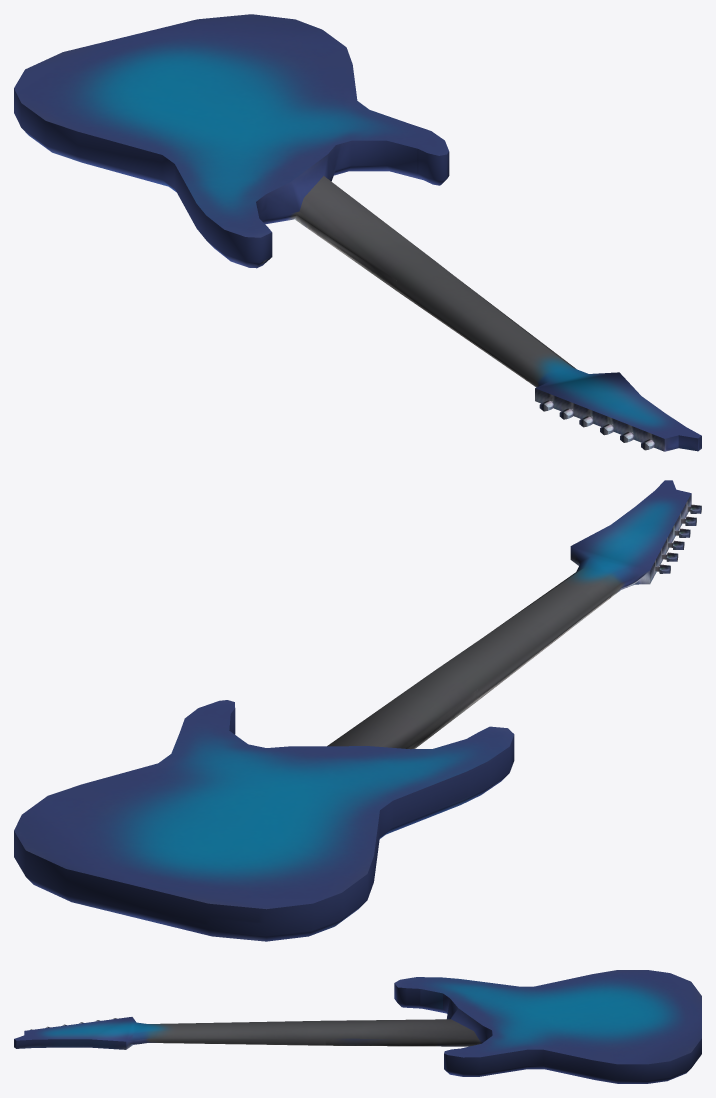
The model's file is gitara.obj.
The picture shows the model from 3 angles, top to bottom: view 1: azimuth 30°, elevation 25°; view 2: azimuth 150°, elevation 25°; view 3: azimuth 270°, elevation 25°; orthographic projection. The views are drawn at different scales.
Visible parts, largest first — view 1: Plane02; view 2: Plane02; view 3: Plane02.
Part boxes in pixels (<box>): Plane02: <box>14,14,701,451</box>; Plane02: <box>14,480,701,941</box>; Plane02: <box>14,970,701,1083</box>.
Bounding box in the file's own units: 75.2 × 8.82 × 232.
1 material, 1 textured.
